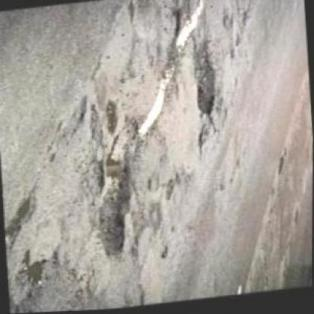Hueco: (87, 114, 153, 260), (188, 41, 220, 121), (3, 193, 41, 252), (10, 248, 51, 302)
